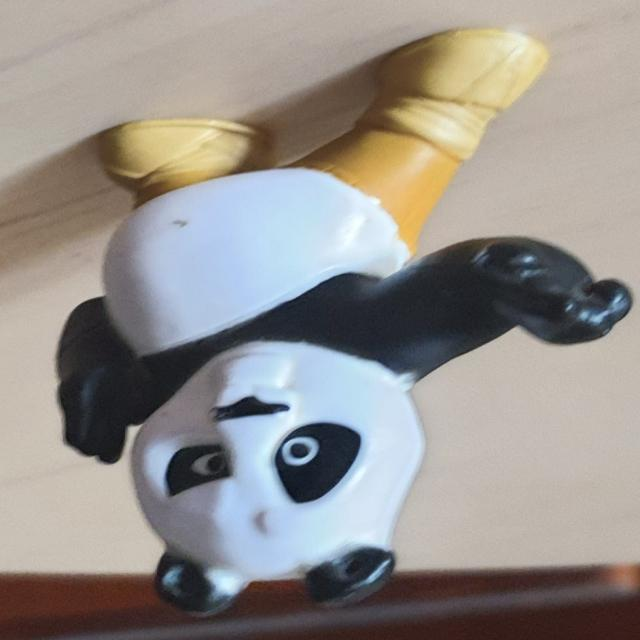Panda: (54, 28, 634, 618)
